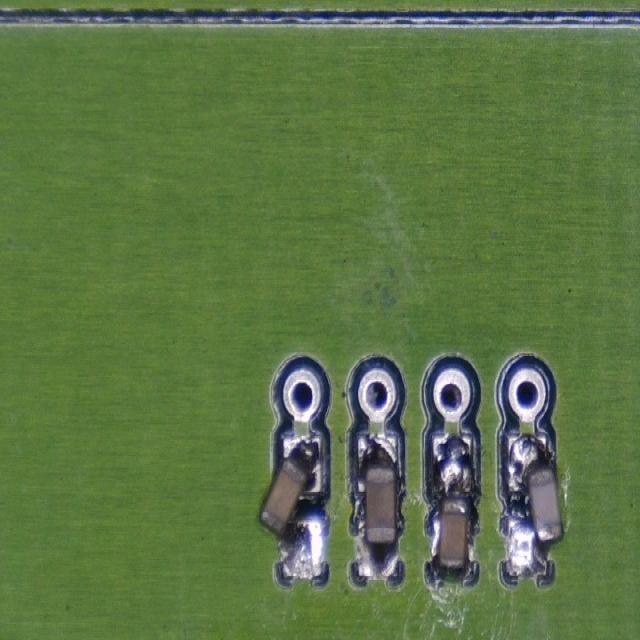Incorrect_installation: (258, 436, 325, 580), (505, 434, 564, 576), (430, 432, 475, 576)
Short_circuit: (429, 432, 474, 576)
